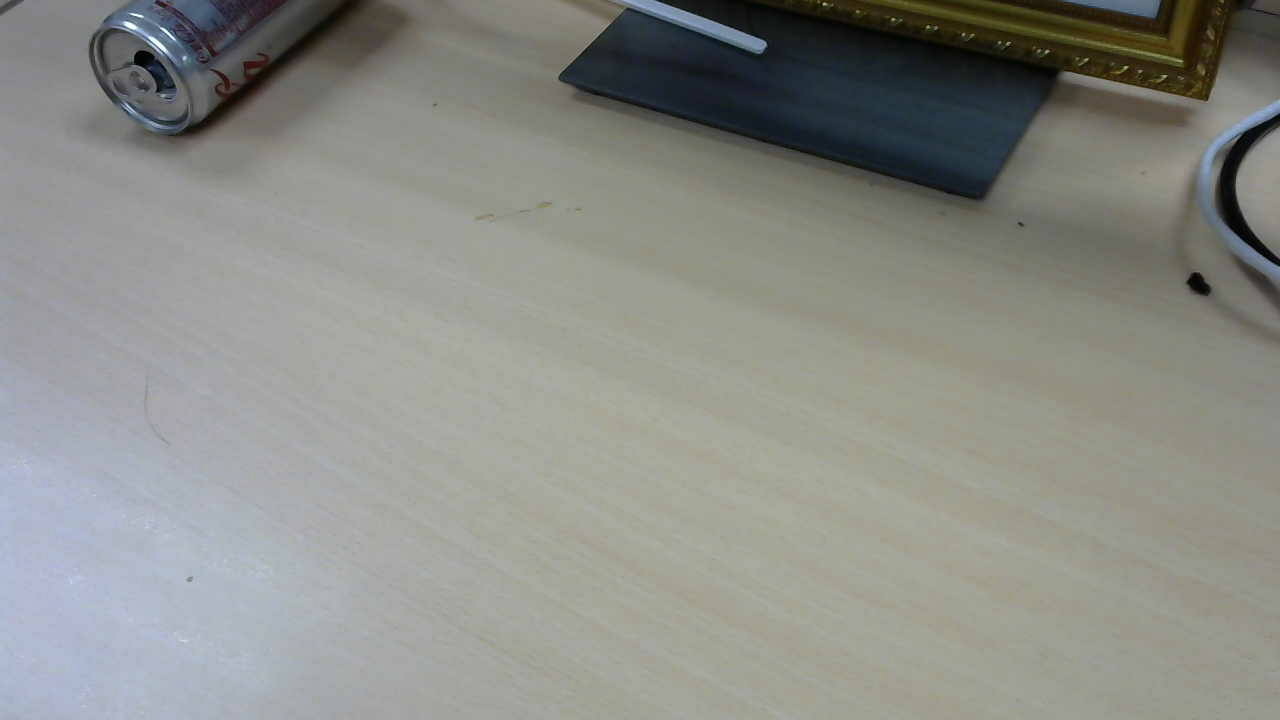Coca_Cola: (91, 7, 367, 140)
